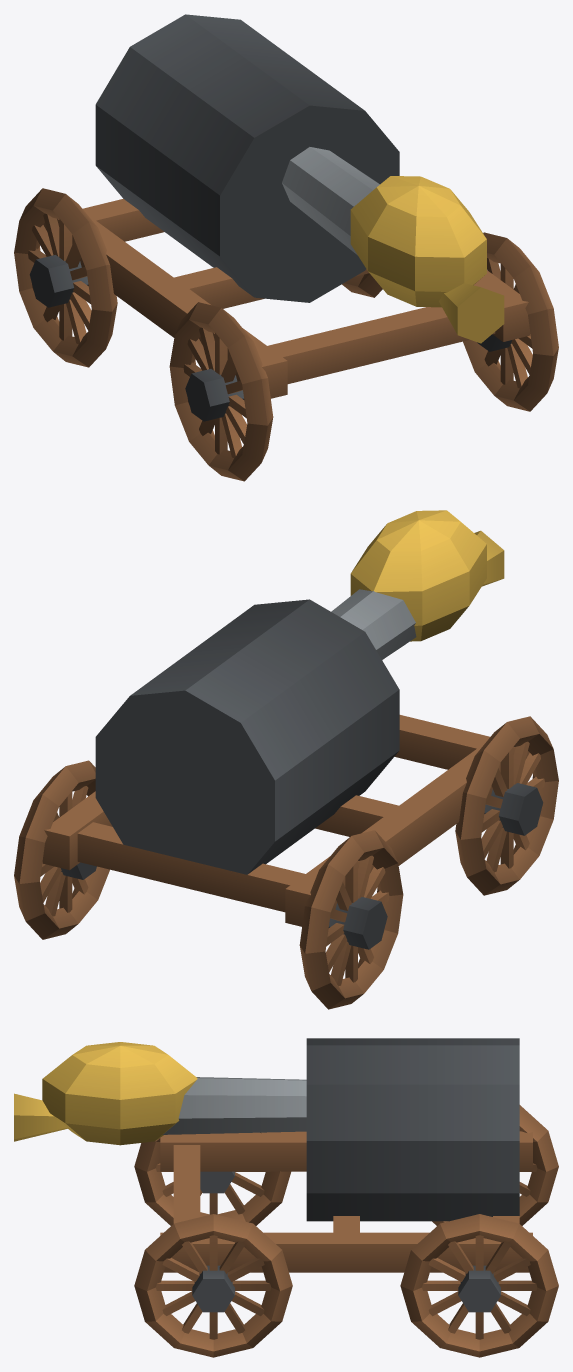
File: FLAMETHR.glb
The picture shows the model from 3 angles, top to bottom: view 1: azimuth 30°, elevation 25°; view 2: azimuth 150°, elevation 25°; view 3: azimuth 270°, elevation 25°; orthographic projection. The views are drawn at different scales.
Parts seen in each view (by area): view 1: Body, Barrel, Wheel_0, Wheel_2, Wheel_1, Wheel_3; view 2: Body, Barrel, Wheel_2, Wheel_0, Wheel_3; view 3: Body, Barrel, Wheel_1, Wheel_3, Wheel_0, Wheel_2.
Boxes of the visible parts, x1=… form: Body: x1=43, y1=14, x2=530, y2=398; Barrel: x1=282, y1=147, x2=504, y2=343; Wheel_0: x1=169, y1=302, x2=273, y2=481; Wheel_2: x1=14, y1=188, x2=117, y2=367; Wheel_1: x1=463, y1=232, x2=558, y2=411; Wheel_3: x1=342, y1=273, x2=382, y2=297; Body: x1=42, y1=599, x2=529, y2=926; Barrel: x1=331, y1=510, x2=504, y2=659; Wheel_2: x1=299, y1=830, x2=403, y2=1009; Wheel_0: x1=455, y1=716, x2=558, y2=895; Wheel_3: x1=14, y1=760, x2=109, y2=939; Body: x1=160, y1=1038, x2=532, y2=1272; Barrel: x1=14, y1=1042, x2=306, y2=1145; Wheel_1: x1=134, y1=1214, x2=292, y2=1357; Wheel_3: x1=400, y1=1214, x2=558, y2=1357; Wheel_0: x1=134, y1=1132, x2=290, y2=1225; Wheel_2: x1=432, y1=1105, x2=558, y2=1225.
Bounding box in the file's own units: 1.24 × 1.05 × 2.05.
Materials: 1 (1 with a texture image).
